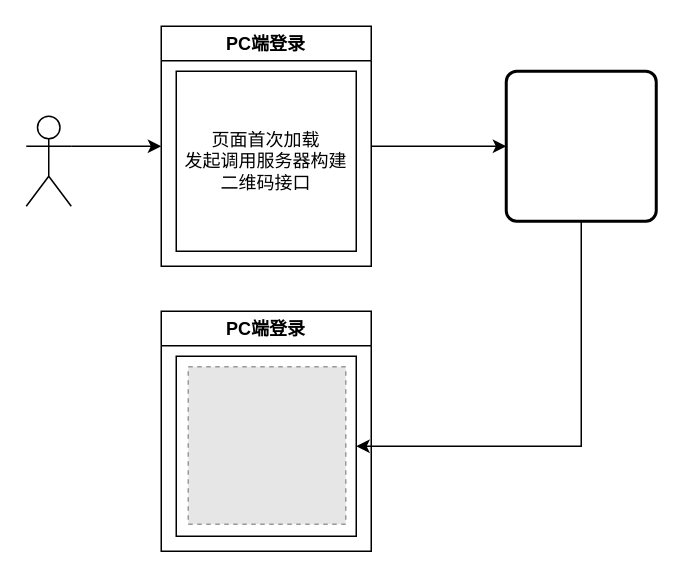
The diagram is 684 pixels wide and 578 high, and some of its shapes have lost their labels. Grey dashed boxes stand in for pictures. The shapes that lost their labels are listed below. From the top down, each one's centre as x and y in pixels, then its label:
At point (48, 160): "Actor".
At point (580, 145): "服务端获取授权二维码".
